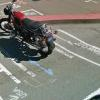Motorcycle: (2, 3, 62, 53)
